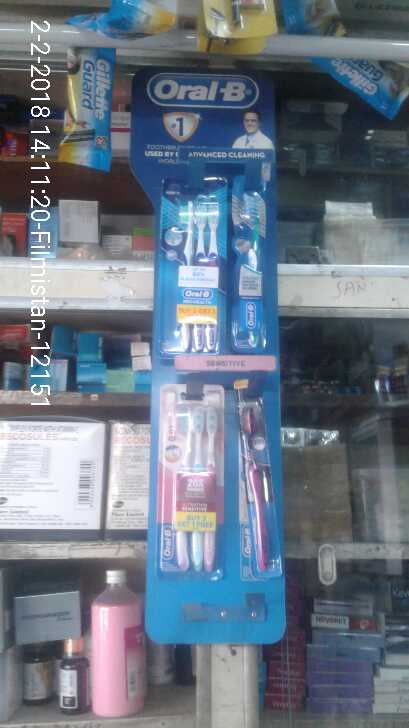beauty: (50, 48, 112, 176)
pharmacy: (157, 397, 220, 569), (225, 190, 276, 349), (174, 195, 222, 352), (239, 406, 277, 576)
